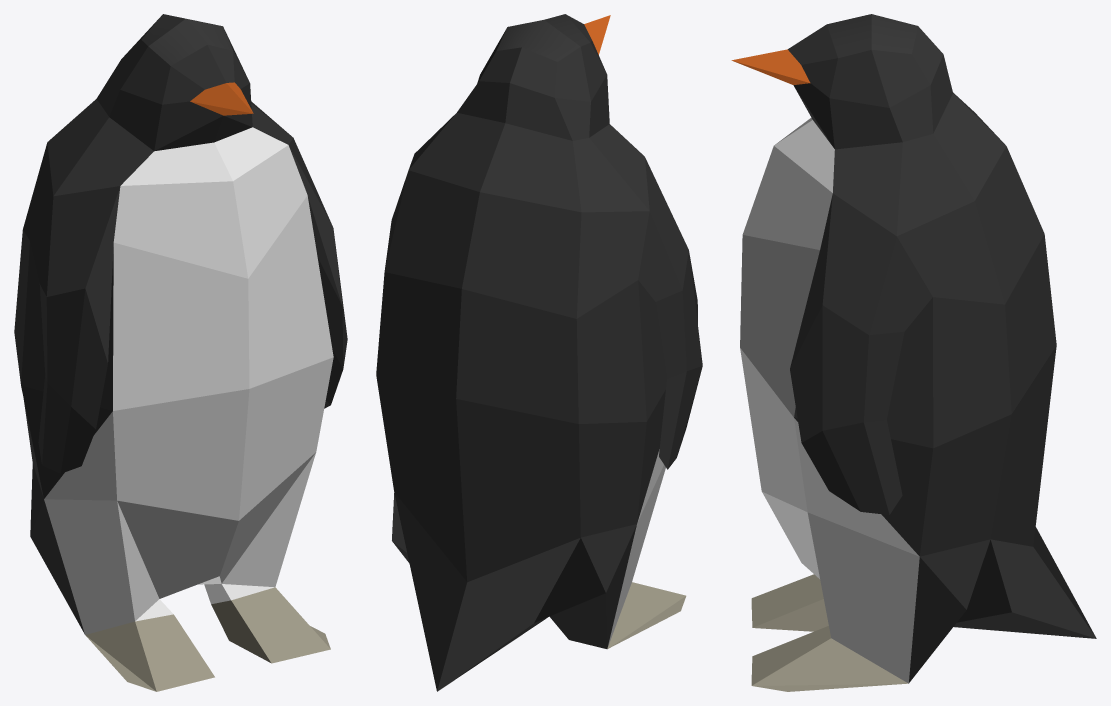
Rendered from Model_Penguin.fbx.
3 renders of one model, left to right at view 1: azimuth 30°, elevation 25°; view 2: azimuth 150°, elevation 25°; view 3: azimuth 270°, elevation 25°, orthographic. The views are drawn at different scales.
Visible parts, largest first — view 1: Penguin; view 2: Penguin; view 3: Penguin.
Part boxes in pixels (x1,y1,x2,y2): Penguin: (14,14,347,691); Penguin: (376,14,702,691); Penguin: (731,14,1096,691).
Size of the model in its own units: 83.07 by 170 by 89.87.
